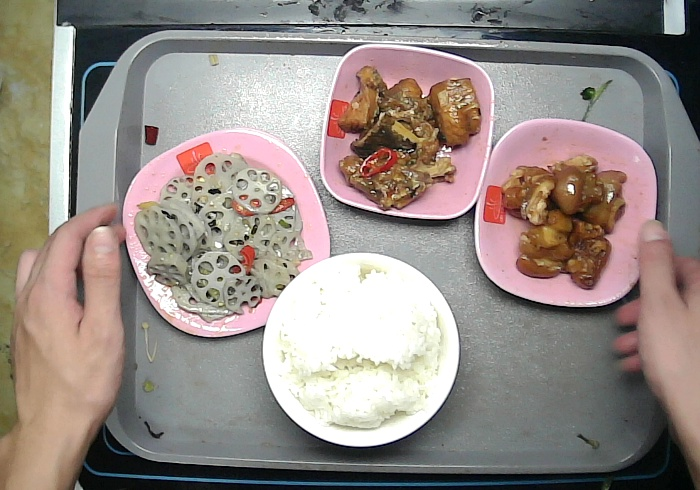SHKJ-Fan_Wan: (264, 251, 461, 445)
SHKJ-Fen_Se_Cai_Die: (476, 118, 659, 307)
SHKJ-Fen_Se_Si_Fang_Cai_Die: (122, 129, 330, 336)
SHKJ-Fen_Se_Xiao_Fang_Die: (322, 43, 491, 219)
